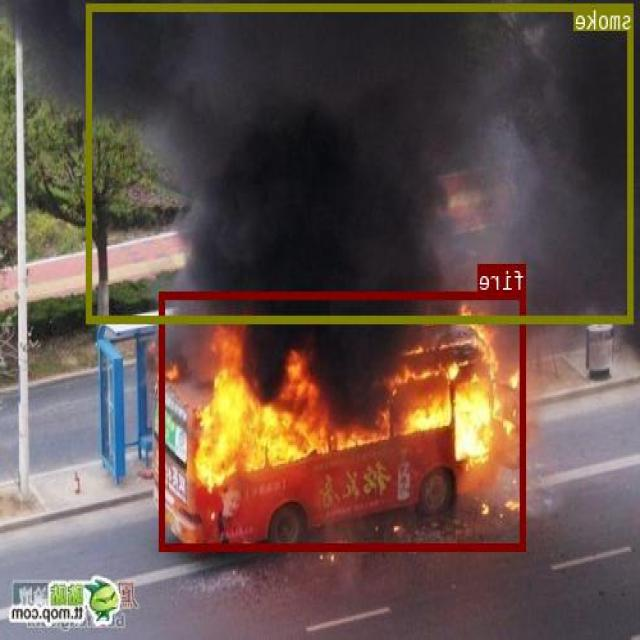fire: (161, 290, 527, 550)
smoke: (87, 2, 635, 322)
